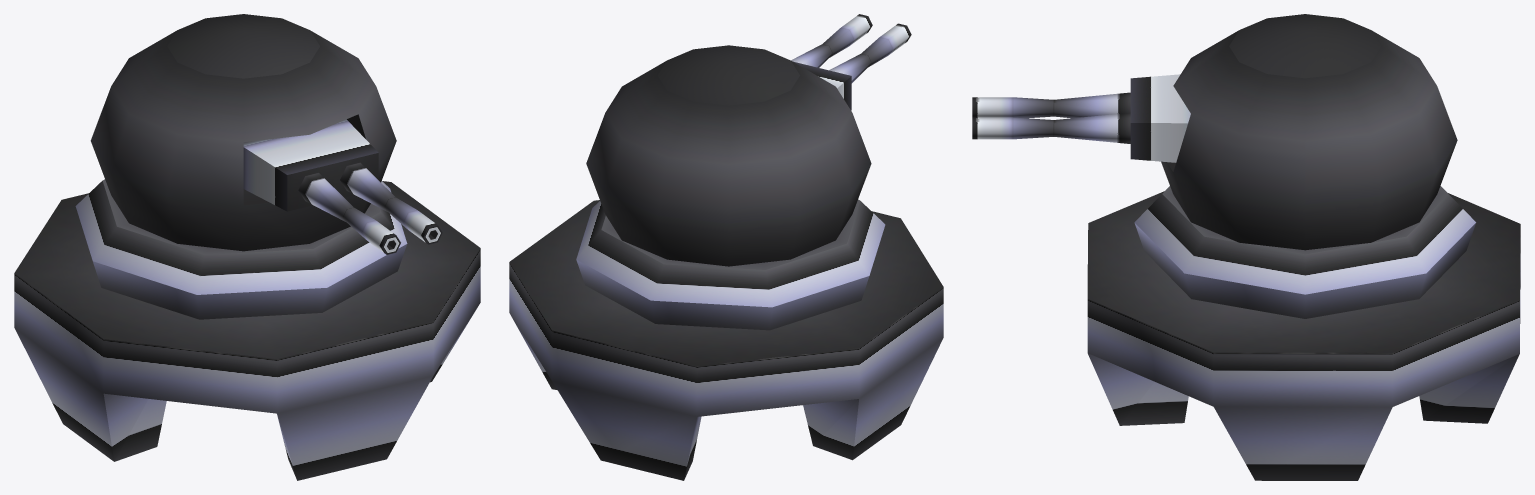
File: gun_towncannon.DAE
The picture shows the model from 3 angles, left to right: view 1: azimuth 30°, elevation 25°; view 2: azimuth 150°, elevation 25°; view 3: azimuth 270°, elevation 25°; orthographic projection. The views are drawn at different scales.
Parts seen in each view (by area): view 1: Cylinder02; view 2: Cylinder02; view 3: Cylinder02.
Boxes of the visible parts, <box> form: Cylinder02: <box>14,14,480,480</box>; Cylinder02: <box>509,14,943,480</box>; Cylinder02: <box>972,14,1520,480</box>.
Bounding box in the file's own units: 16.98 × 16.37 × 21.49.
